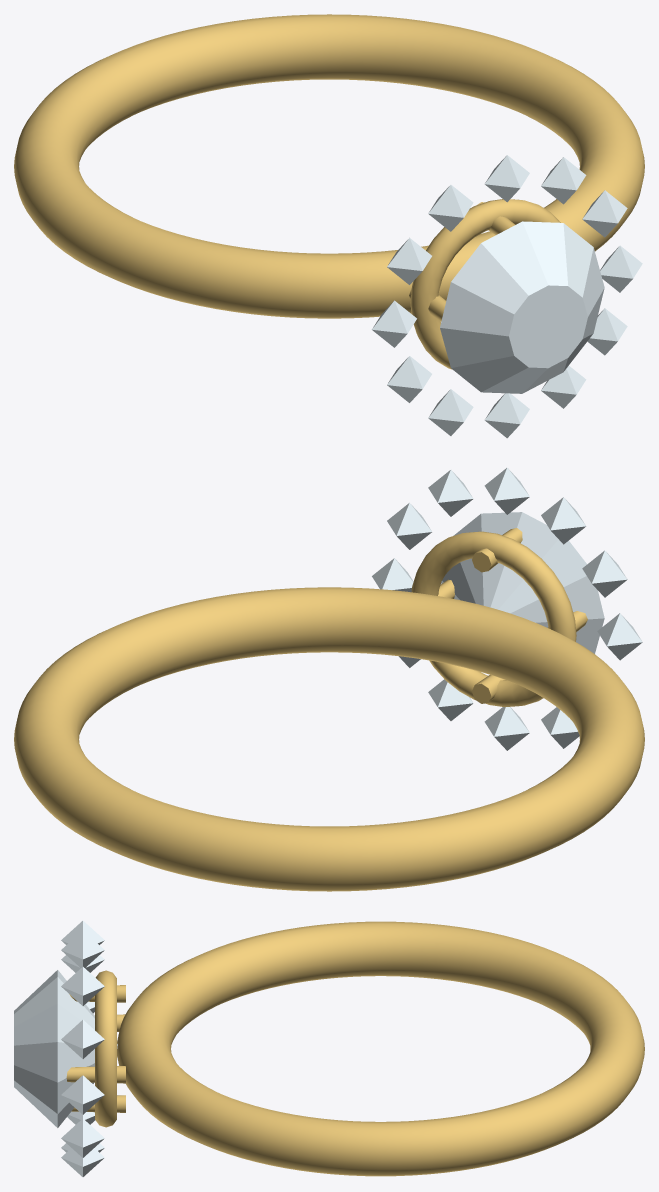
Rendered from halo.glb.
3 renders of one model, top to bottom at view 1: azimuth 30°, elevation 25°; view 2: azimuth 150°, elevation 25°; view 3: azimuth 270°, elevation 25°, orthographic. The views are drawn at different scales.
Visible parts, largest first — view 1: metal (×2), gem (×13); view 2: metal (×3), gem (×11); view 3: metal (×3), gem (×8).
Part boxes in pixels (<box>): metal (×2): <box>14,14,644,369</box>; gem (×13): <box>372,155,642,438</box>; metal (×3): <box>14,528,644,891</box>; gem (×11): <box>372,467,642,750</box>; metal (×3): <box>66,921,644,1176</box>; gem (×8): <box>14,921,117,1176</box>.
Size of the model in its own units: 2.52 by 1.25 by 3.01.
